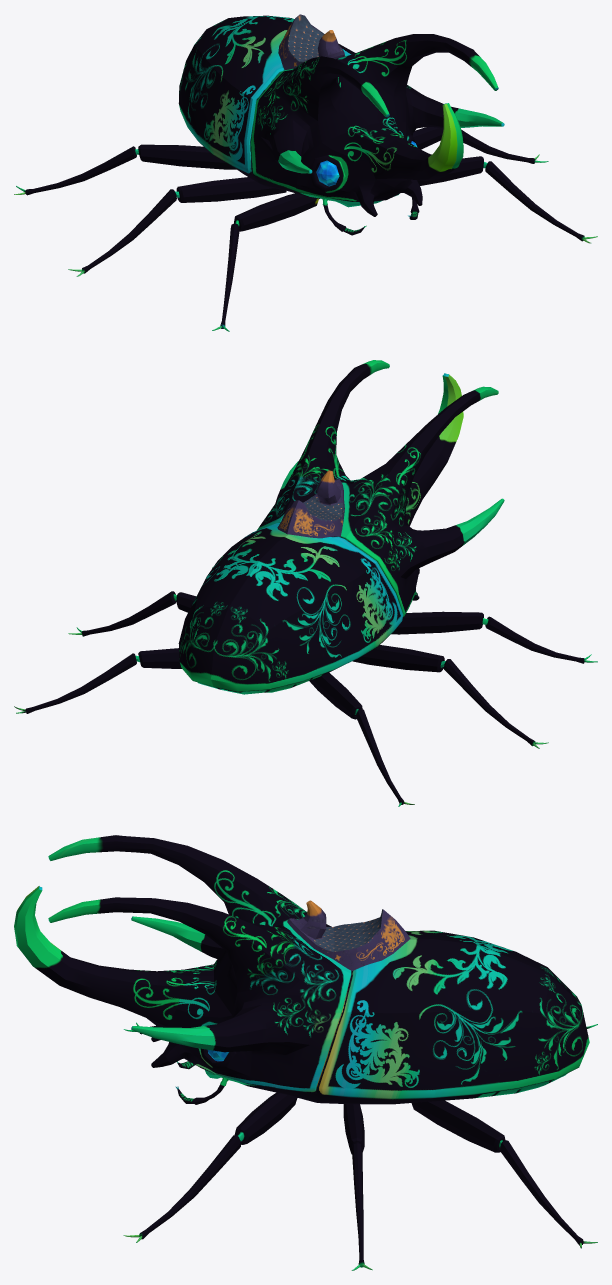
Rendered from naruto.glb.
3 renders of one model, top to bottom at view 1: azimuth 30°, elevation 25°; view 2: azimuth 150°, elevation 25°; view 3: azimuth 270°, elevation 25°, orthographic. The views are drawn at different scales.
Parts seen in each view (by area): view 1: Beetle_LP, Chair_LP, Eye_Right_LP; view 2: Beetle_LP, Chair_LP; view 3: Beetle_LP, Chair_LP.
Part boxes in pixels (x1,y1,x2,y2): Beetle_LP: (14, 15, 597, 331); Chair_LP: (278, 14, 345, 69); Eye_Right_LP: (316, 160, 339, 186); Beetle_LP: (14, 360, 597, 806); Chair_LP: (277, 470, 344, 538); Beetle_LP: (14, 835, 597, 1270); Chair_LP: (287, 900, 410, 971).
Bounding box in the file's own units: 0.486 × 0.2302 × 0.4459.
1 material, 1 textured.
